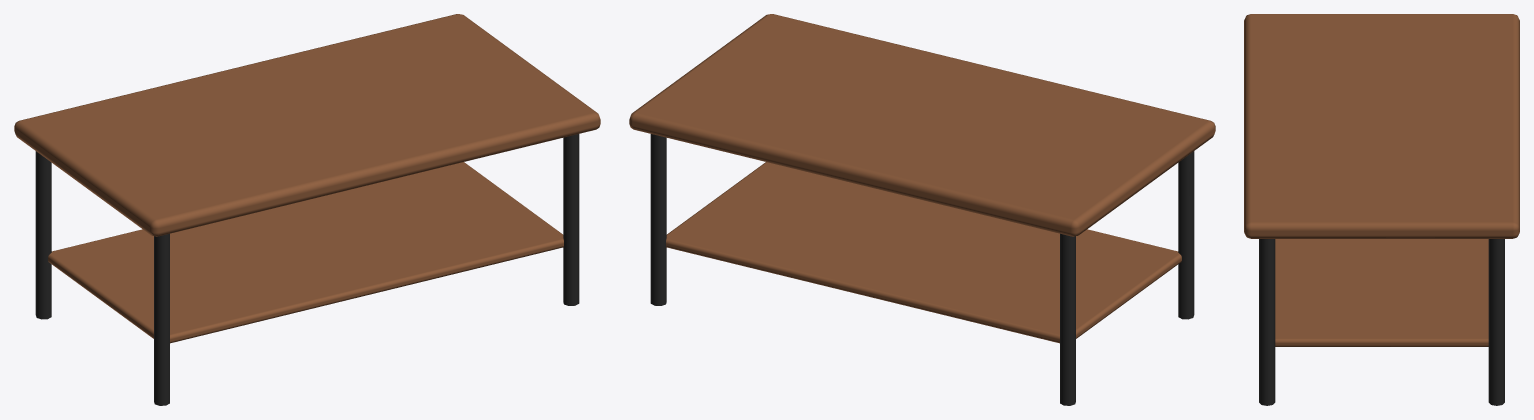
The picture shows the model from 3 angles, left to right: view 1: azimuth 30°, elevation 25°; view 2: azimuth 150°, elevation 25°; view 3: azimuth 270°, elevation 25°; orthographic projection. The views are drawn at different scales.
Parts seen in each view (by area): view 1: top, shelf, leg-4, leg-1, leg-3; view 2: top, shelf, leg-2, leg-3, leg-1; view 3: top, shelf, leg-2, leg-4.
Boxes of the visible parts, box(x1,y1,x2,y2) form: top: box(14, 14, 600, 236); shelf: box(48, 162, 563, 343); leg-4: box(563, 134, 579, 305); leg-1: box(35, 151, 51, 319); leg-3: box(154, 233, 169, 405); top: box(629, 14, 1215, 236); shelf: box(666, 162, 1181, 343); leg-2: box(650, 134, 666, 305); leg-3: box(1178, 151, 1194, 319); leg-1: box(1060, 233, 1075, 405); top: box(1244, 14, 1519, 238); shelf: box(1275, 239, 1488, 346); leg-2: box(1488, 239, 1504, 405); leg-4: box(1259, 239, 1275, 405).
Size of the model in its own units: 1.1 by 0.45 by 0.6.
